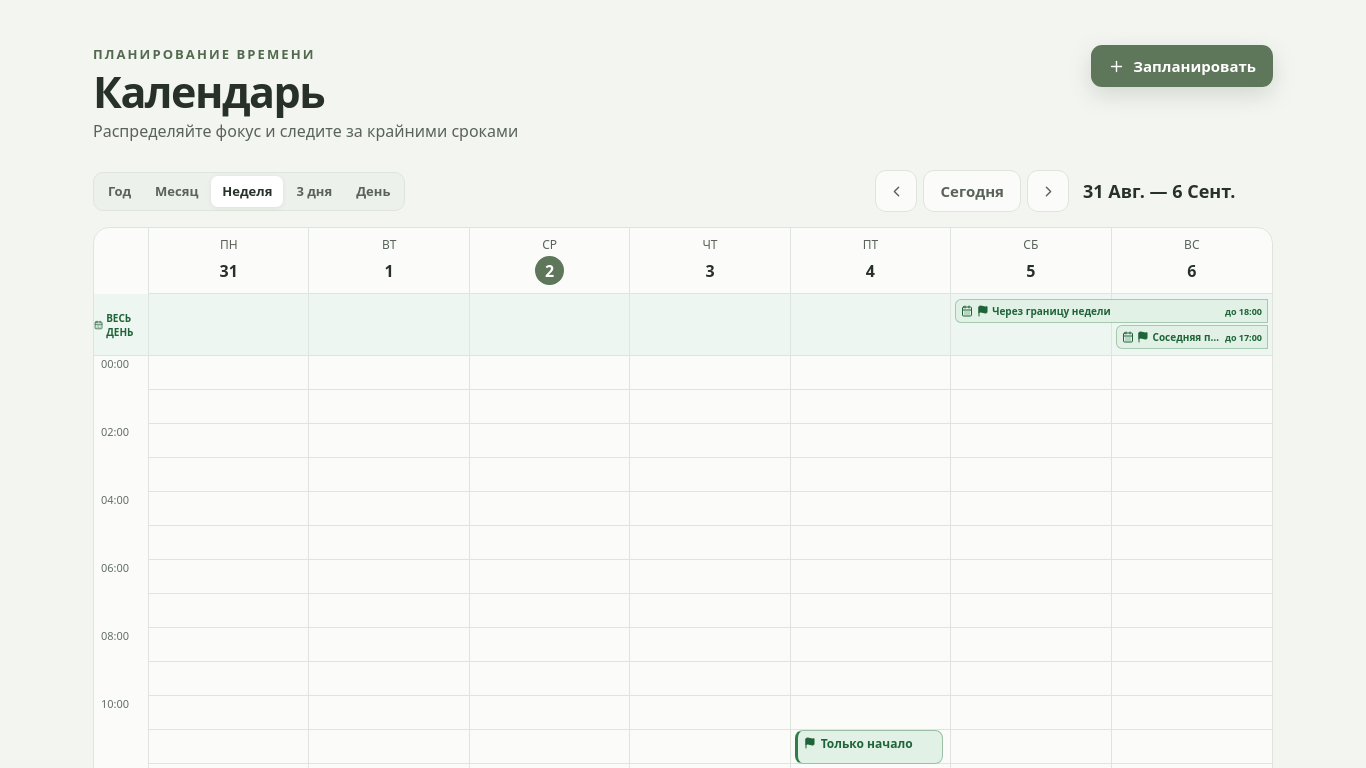
Test: CalendarPage GitHub issues #33, #35, #45 and #46 › renders one continuous month deadline band without a duplicate scheduled row
This screenshot has width=1366, height=768.
Expected: the heading "Календарь" is shown, [93,62,324,121]
Click the button "Месяц" at (177, 191), box [144,176,209,206]
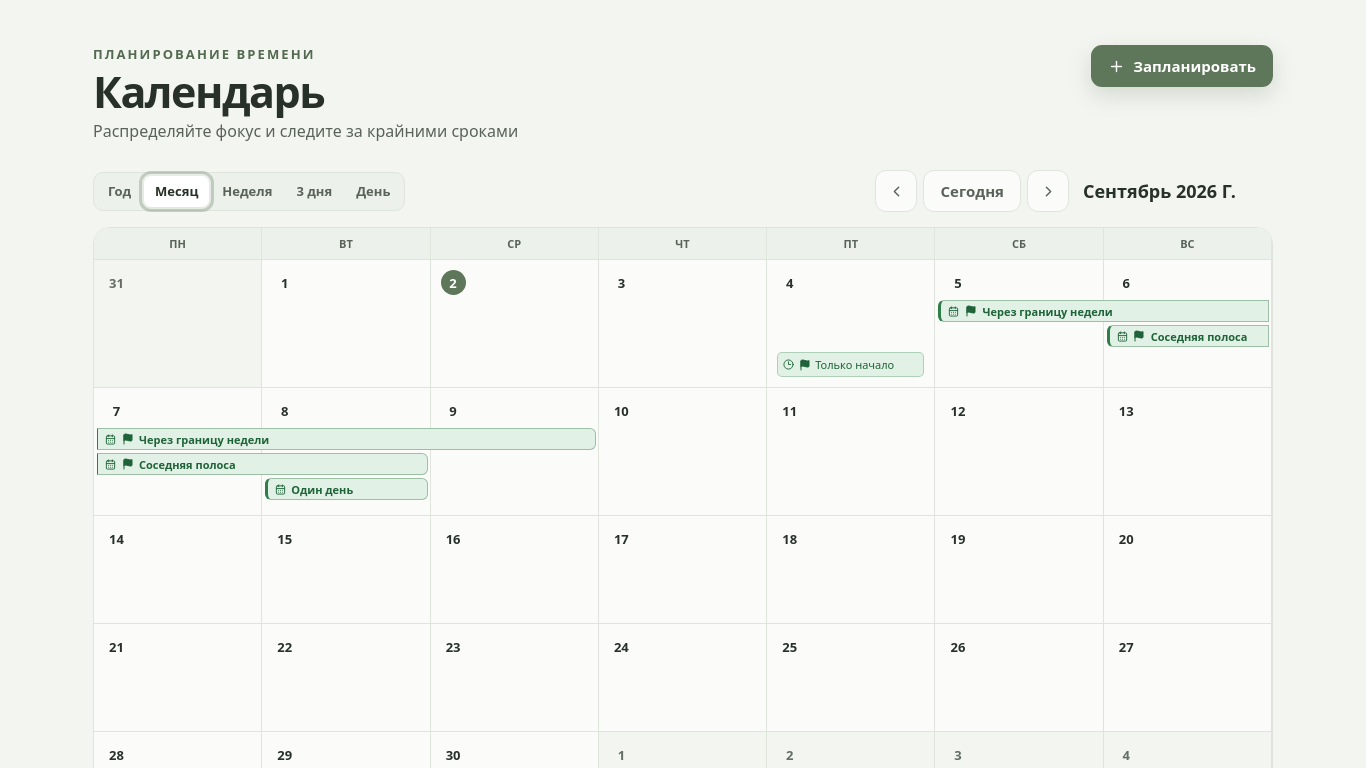
Expected: the button with aria-label "Запланировано: Только начало" is shown, [777,352,924,377]
Now the number of elements with class "month-calendar__week" is 6
Now the 5th icon with class "month-calendar__deadline-glyph" is shown, box [275,484,286,494]
Click the 2nd button "Через границу недели" at (204, 439), box [97,428,596,450]
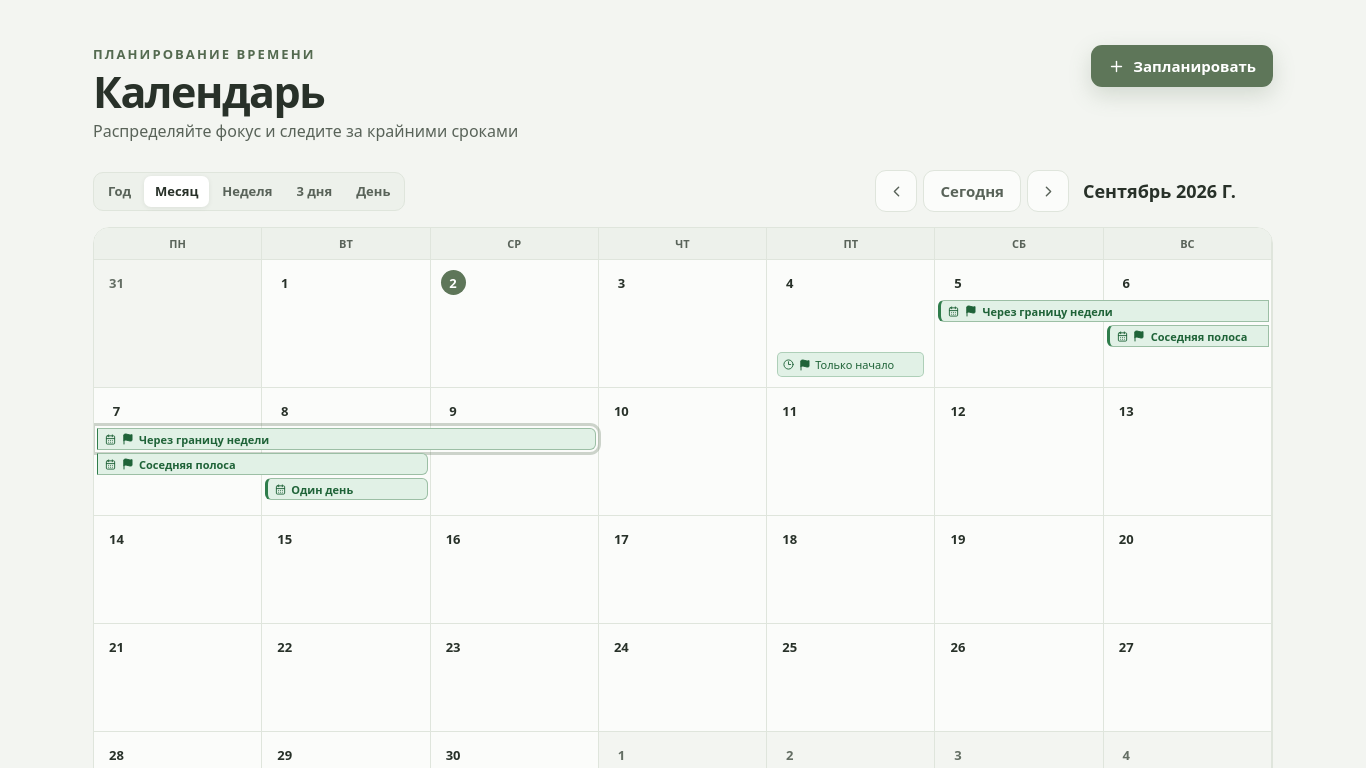
Click the button "7" at (116, 410), box [104,398,129,423]
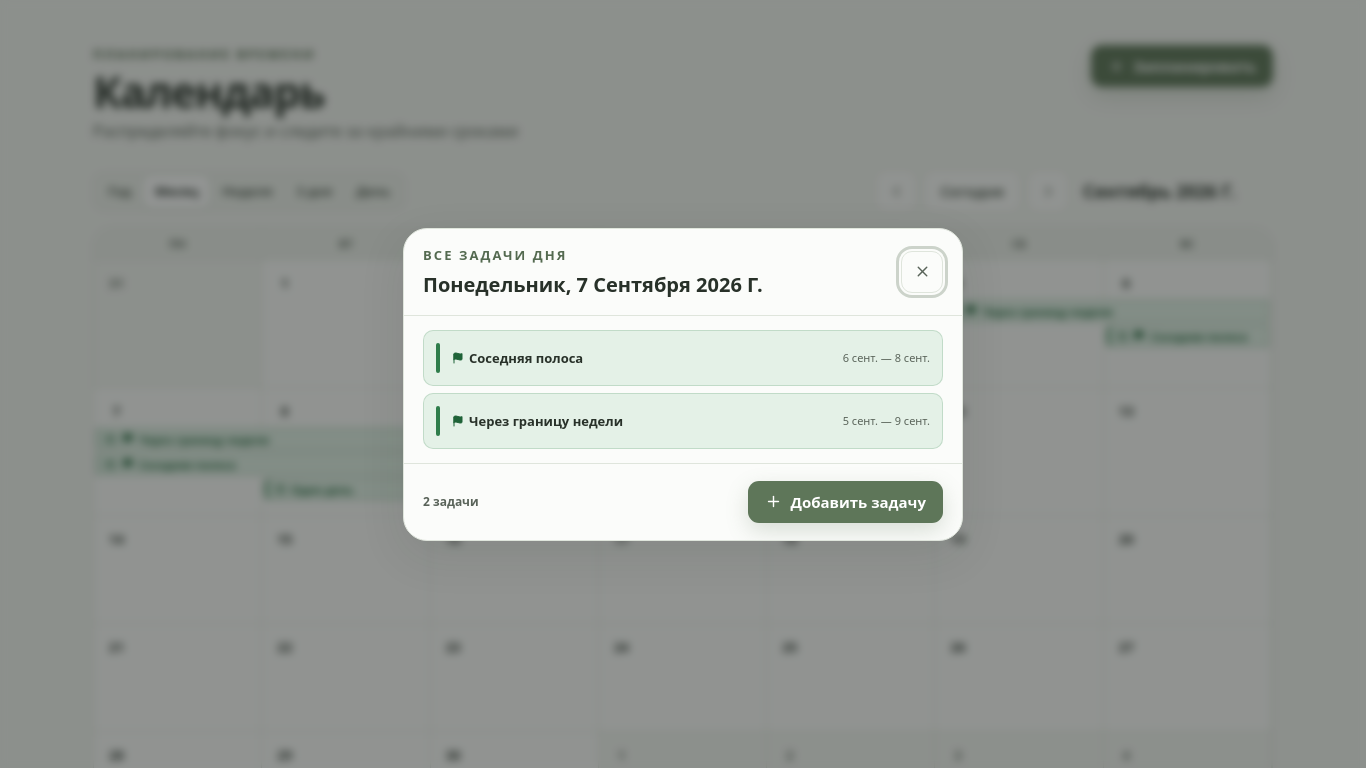
Now the number of buttons with class "calendar-day-dialog__task" is 2, box [423,330,943,386]; [423,392,943,448]
Now the text "Через границу недели" is shown, box [469,412,623,430]
Now the text "Соседняя полоса" is shown, box [469,348,583,366]
